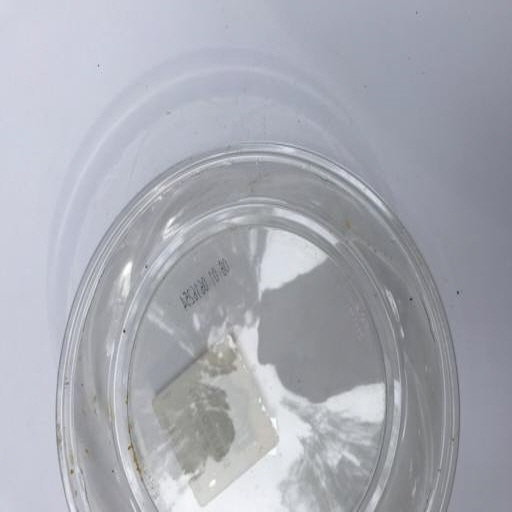Plastic_5: (52, 139, 462, 512)
